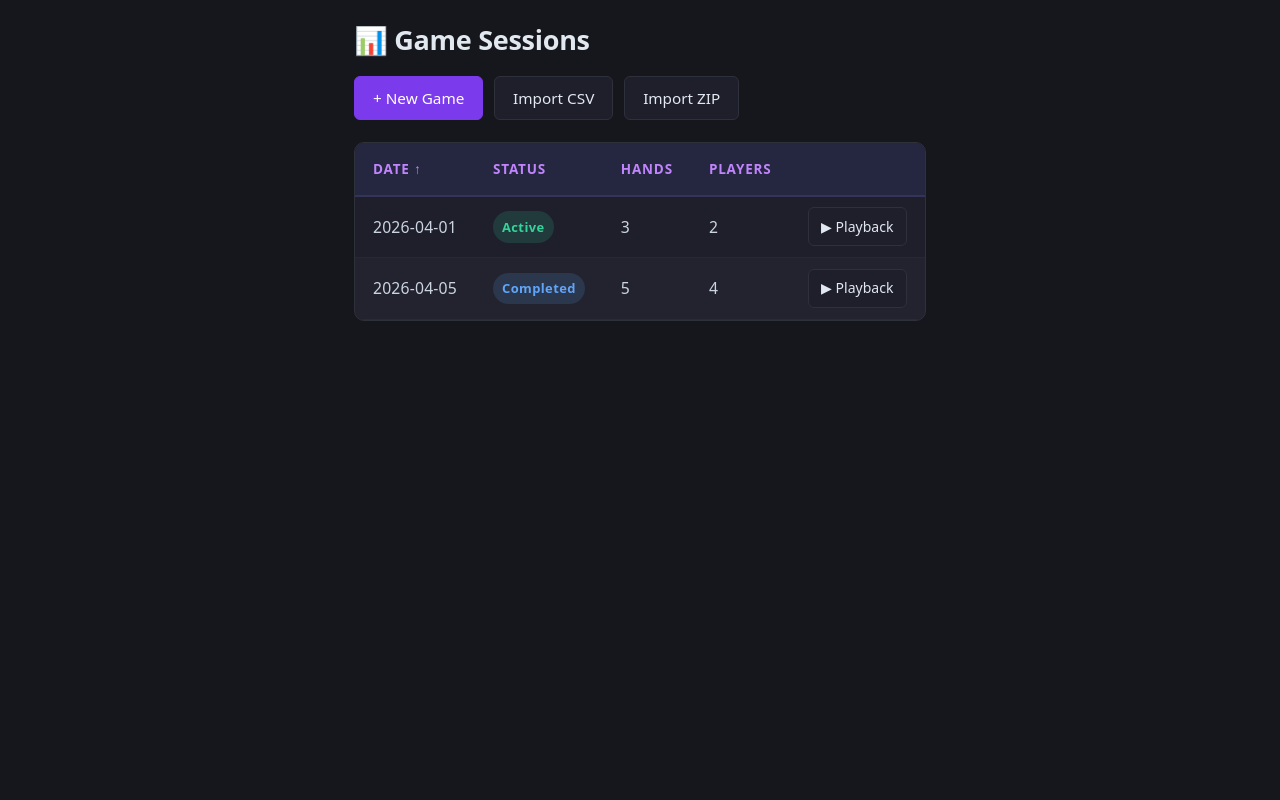
Test case: DataView › opens CSV upload modal on Import CSV click
expect the text "2026-04-01" is shown: met, box [355,197,475,258]
Step 1. Click the button "Import CSV" → (554, 98), box [494,76,613,120]
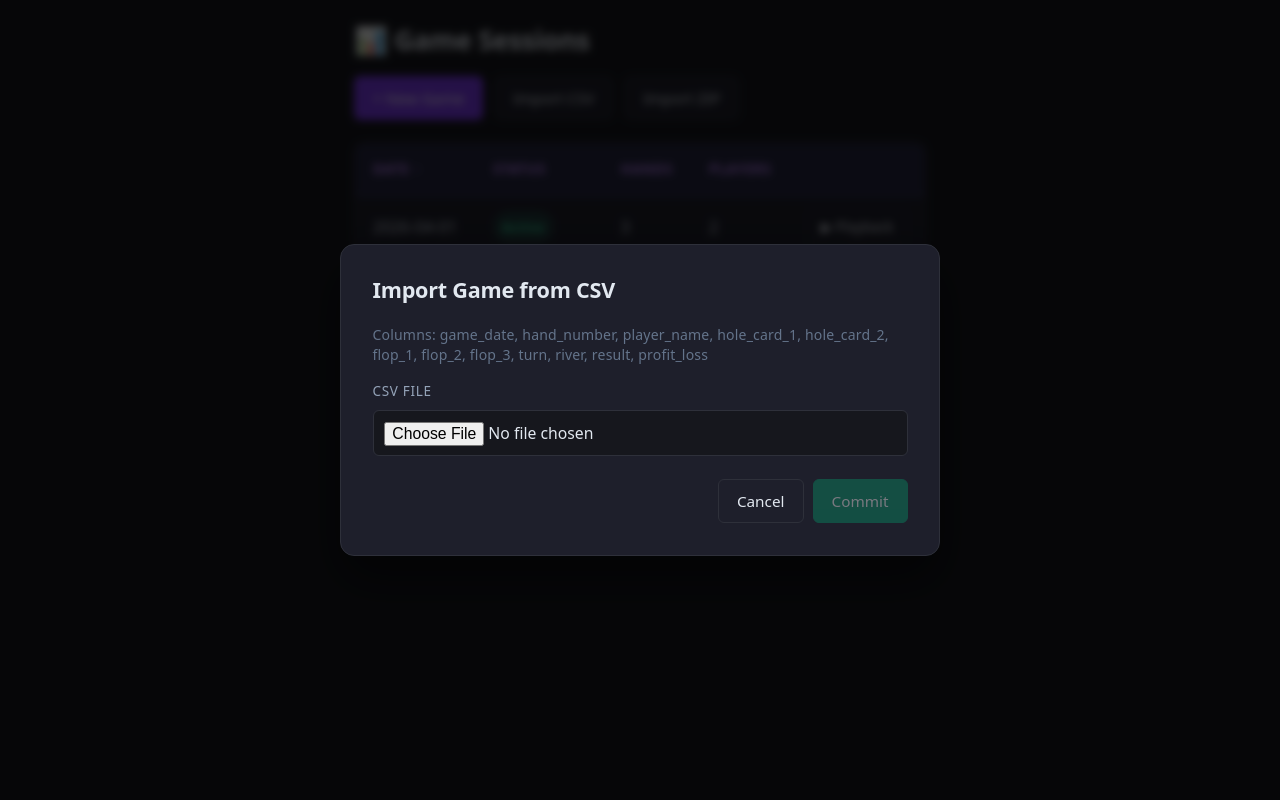
expect the heading "Import Game from CSV" is shown: met, box [372,275,615,304]
